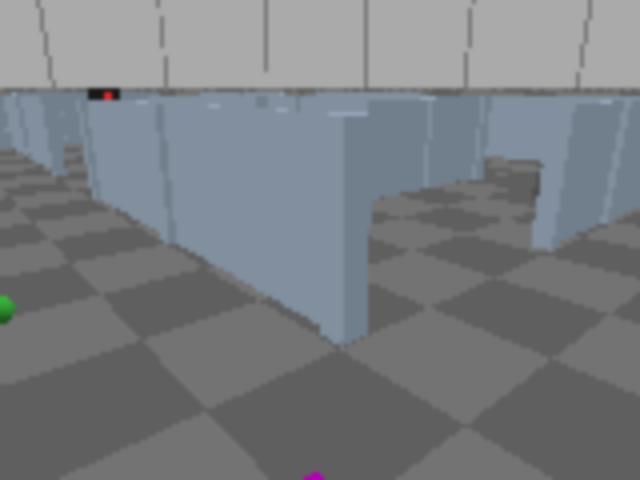goal_zone: (13, 471, 590, 478)
obstacle: (506, 167, 549, 201)
puck: (0, 287, 25, 333)
